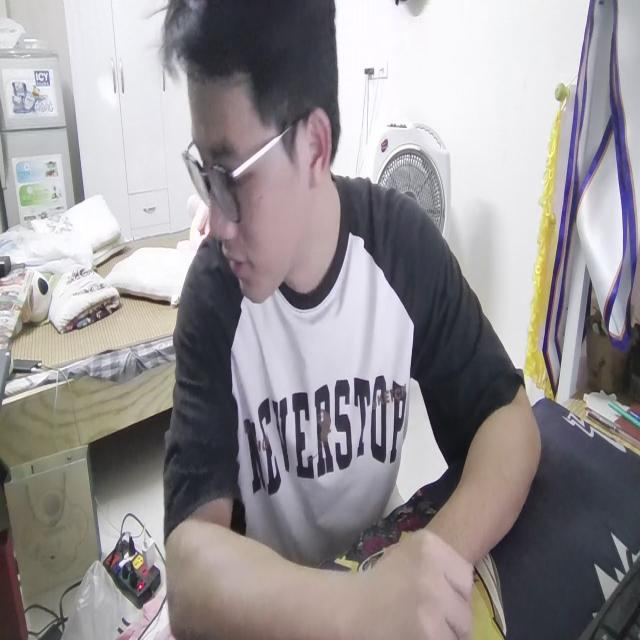student: (158, 2, 540, 640)
